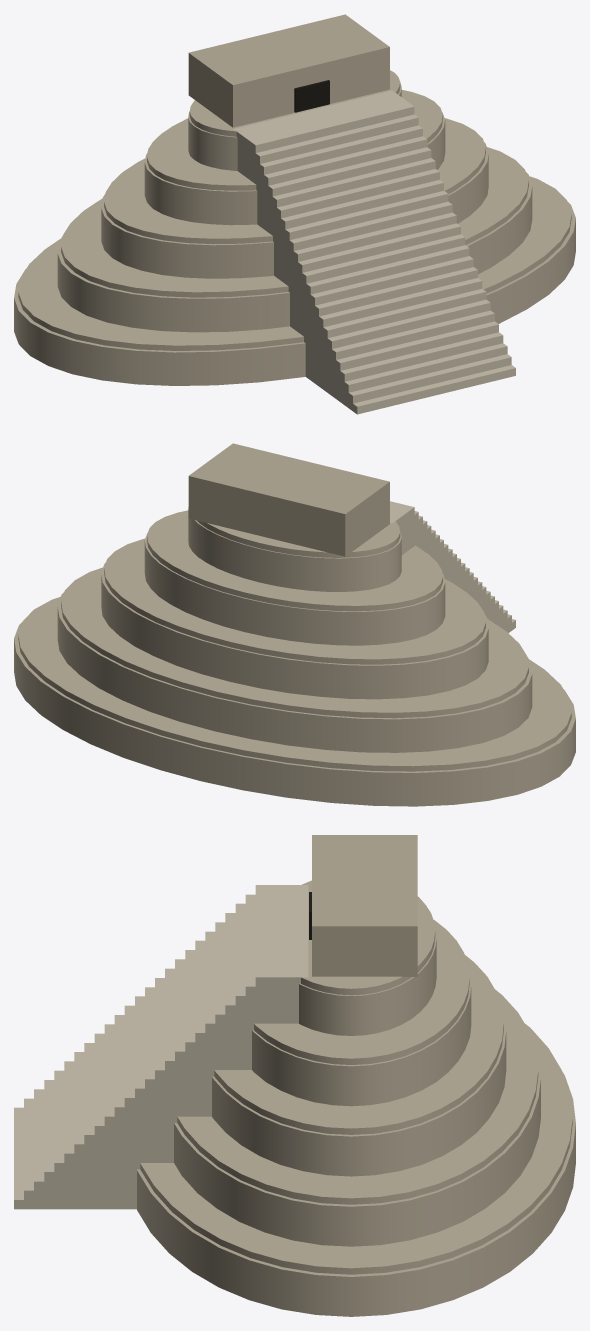
File: meso-uxmal-magician-ruin.glb
3 views of the same model, one above another, from view 1: azimuth 30°, elevation 25°; view 2: azimuth 150°, elevation 25°; view 3: azimuth 270°, elevation 25° (orthographic). The views are drawn at different scales.
Visible parts, largest first — view 1: meso-body, meso-stair, meso-shrine, meso-door; view 2: meso-body, meso-shrine, meso-stair; view 3: meso-body, meso-stair, meso-shrine.
Boxes of the visible parts, box(x1,y1,x2,y2) form: meso-body: box(14, 70, 575, 385); meso-stair: box(234, 90, 515, 414); meso-shrine: box(188, 14, 389, 127); meso-door: box(294, 80, 329, 112); meso-body: box(14, 507, 575, 806); meso-shrine: box(188, 443, 389, 556); meso-stair: box(390, 501, 515, 632); meso-body: box(137, 880, 575, 1316); meso-stair: box(14, 885, 308, 1209); meso-shrine: box(312, 835, 417, 976).
Bounding box in the file's own units: 63.7 × 27.3 × 49.2.
